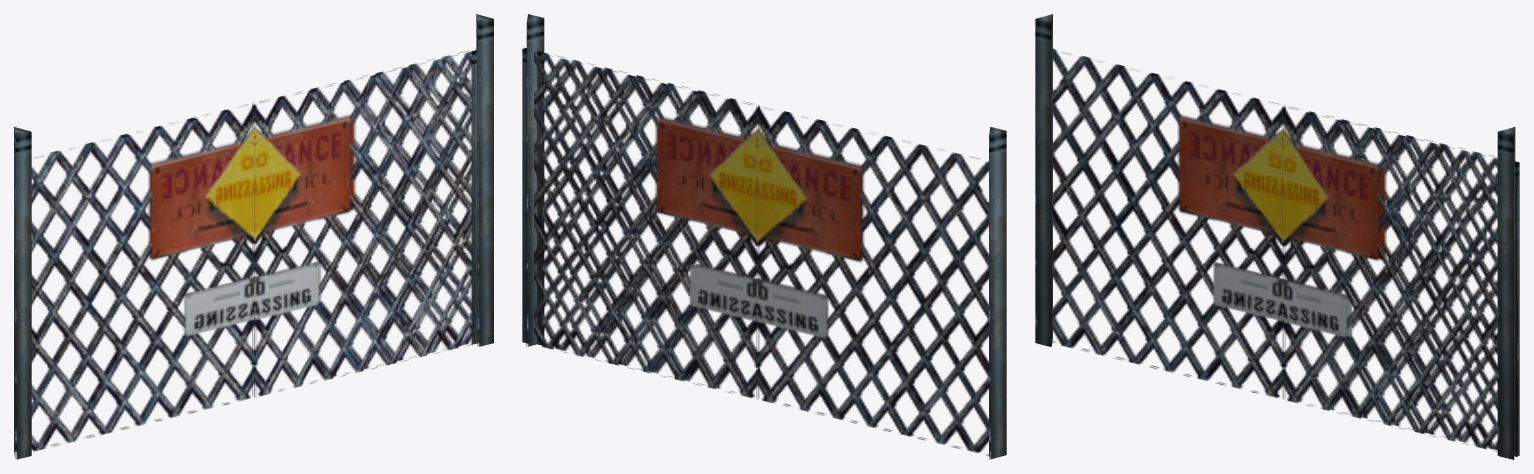
The model's file is Environment - Prop - Chain Link Fence 01 - PMWallChnT.glb.
3 views of the same model, side by side, from view 1: azimuth 30°, elevation 25°; view 2: azimuth 150°, elevation 25°; view 3: azimuth 330°, elevation 25° (orthographic).
Visible parts, largest first — view 1: PMWALLCHNT; view 2: PMWALLCHNT; view 3: PMWALLCHNT.
Part boxes in pixels (x1=…): PMWALLCHNT: x1=14, y1=14, x2=493, y2=459; PMWALLCHNT: x1=522, y1=14, x2=1006, y2=459; PMWALLCHNT: x1=1035, y1=14, x2=1519, y2=459.
Size of the model in its own units: 28.35 by 18.36 by 0.9621.
1 material, 1 textured.
